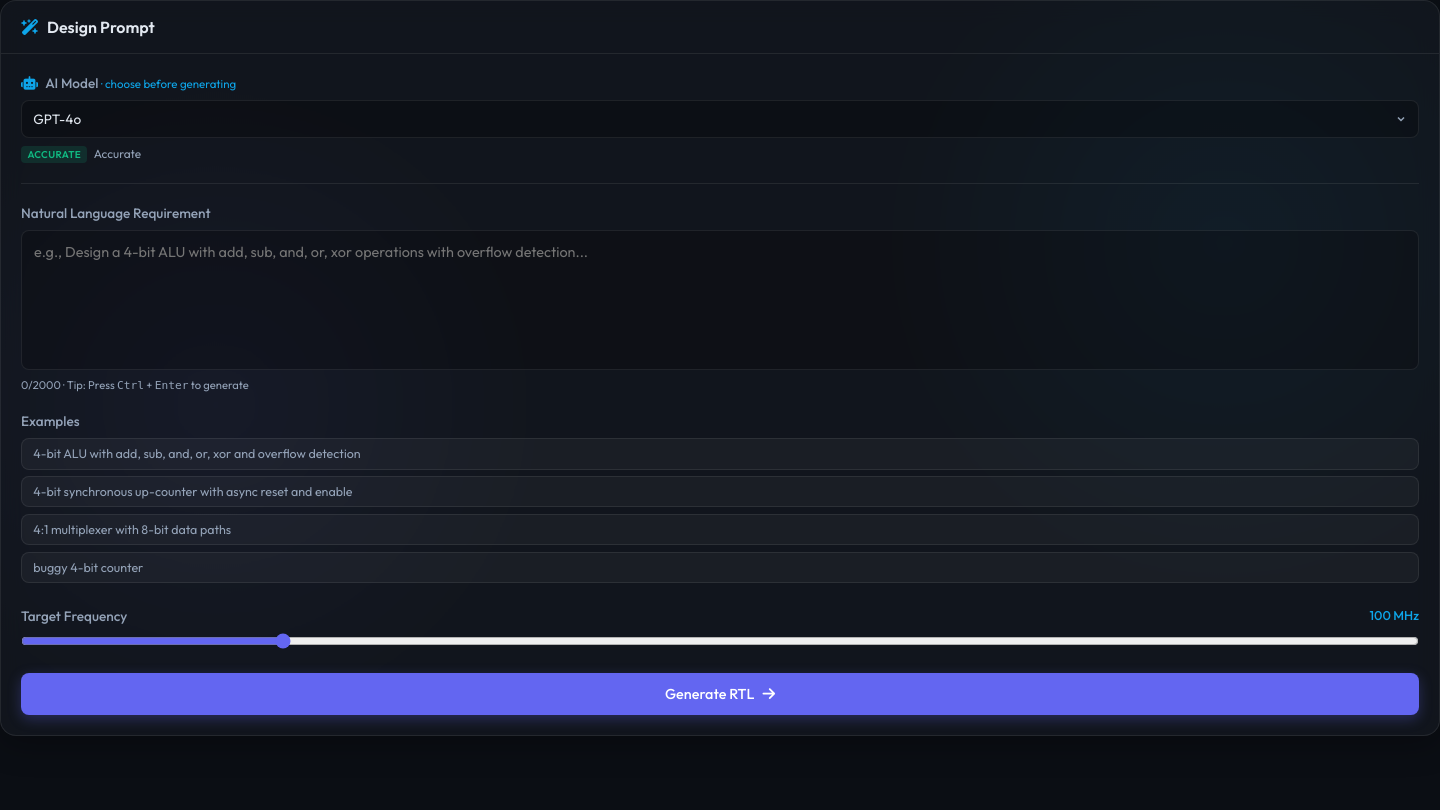
Test case: PromptPanel › frequency slider updates display
This screenshot has width=1440, height=810.
Set the slider to "250" at (706, 641), box top-left (21, 633), bottom-right (1419, 649)
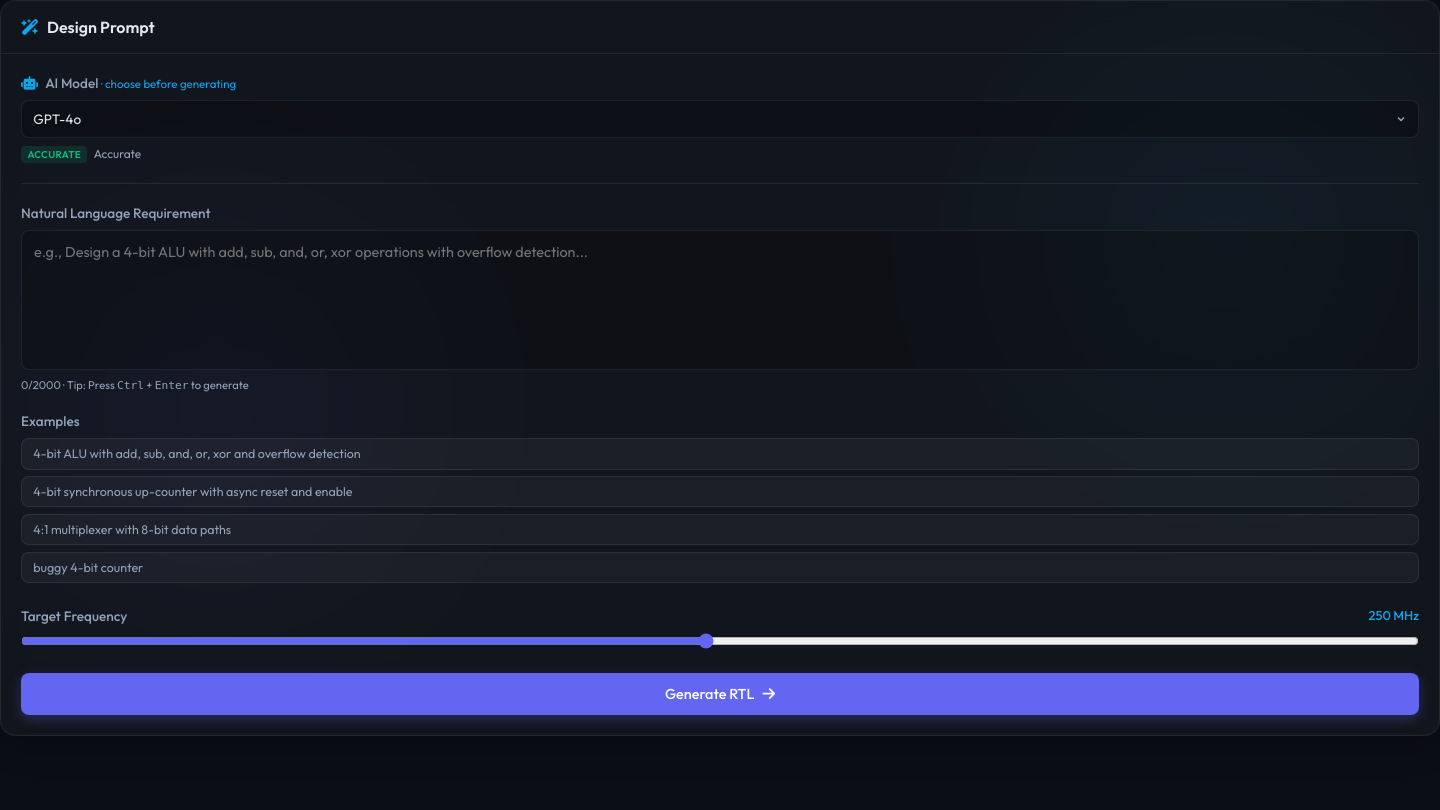
Expected: the text "250 MHz" is shown, top-left (1368, 607), bottom-right (1419, 623)
